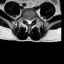CCS_normal: (28, 17, 30, 26)
LFS_normal: (32, 16, 34, 23)
LLS_normal: (30, 17, 32, 25)
RFS_stenosis: (24, 15, 26, 22)
RLS_normal: (26, 17, 28, 24)
